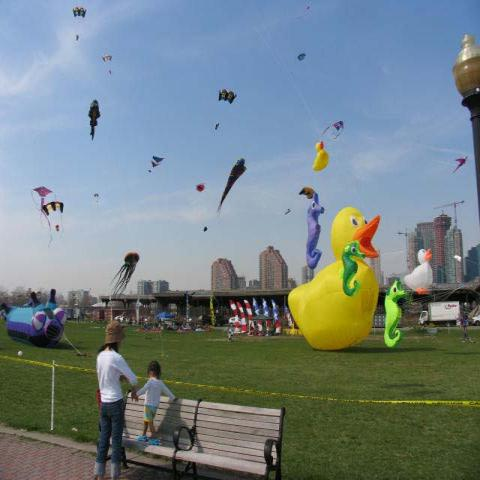truck: (417, 300, 462, 328)
